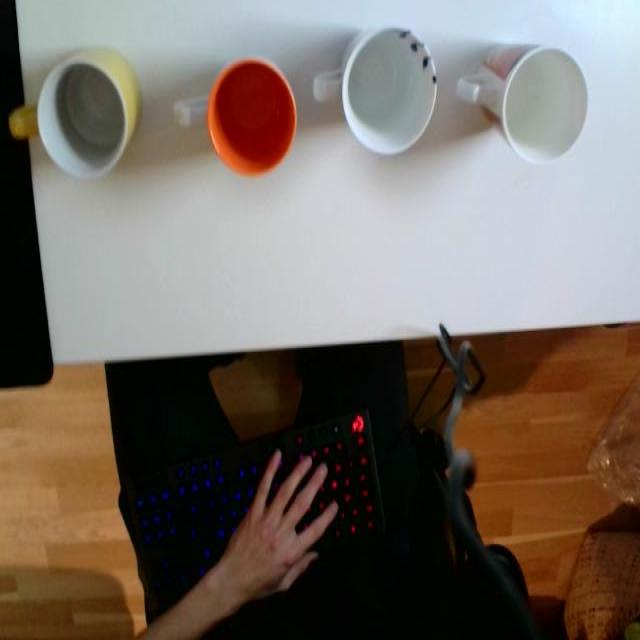cup: (7, 33, 146, 193), (312, 16, 434, 170), (451, 33, 592, 162), (176, 50, 296, 184)
